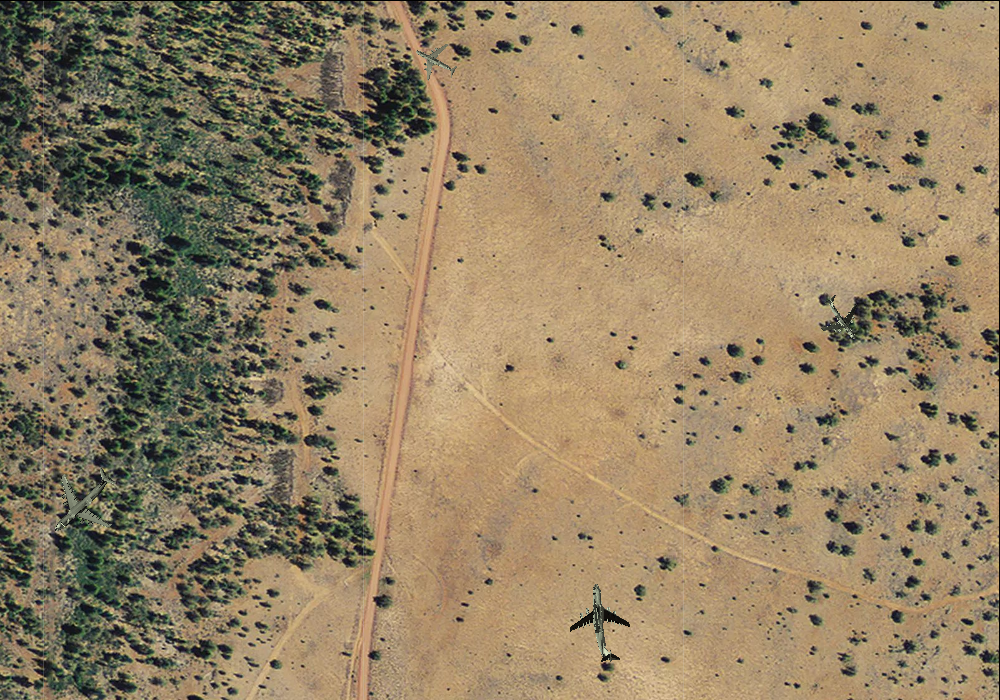plane: (27, 447, 136, 557), (564, 581, 641, 666), (808, 284, 875, 352), (405, 32, 465, 90)
